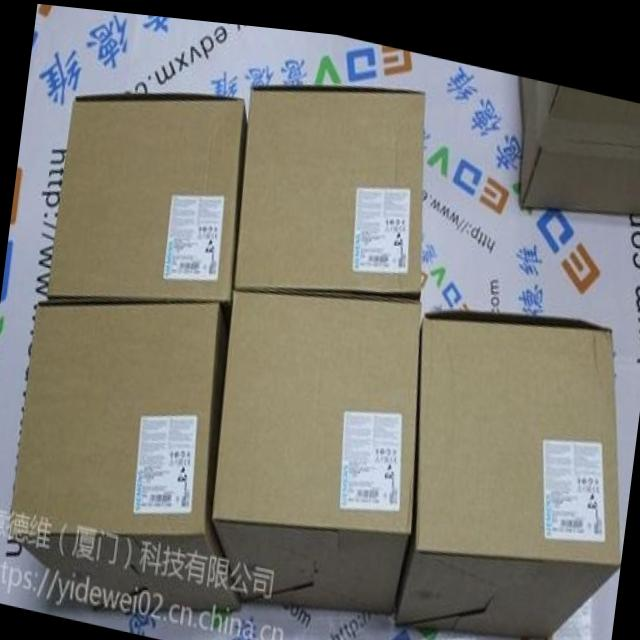box: (392, 300, 620, 626), (10, 296, 241, 607), (212, 283, 421, 606), (46, 94, 247, 296), (233, 76, 425, 285)
